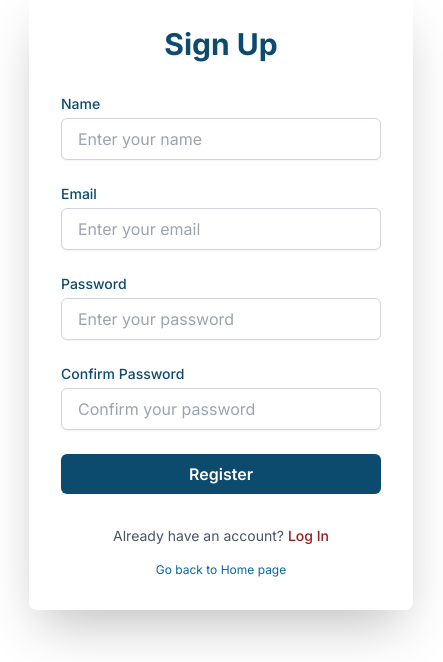
Scenario: Signup › handles signup errors
The width and height of the screenshot is (443, 662).
Type "John Doe" into the field labelled "Name" at coordinates (221, 139), box [61, 118, 381, 160]
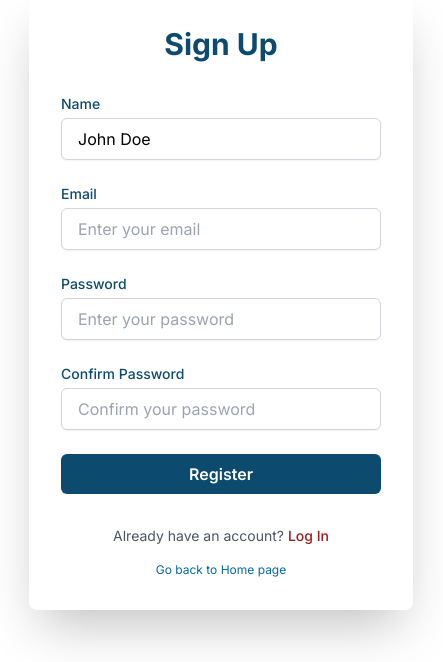
Type "john@example.com" into the field labelled "Email" at coordinates (221, 229), box [61, 208, 381, 250]
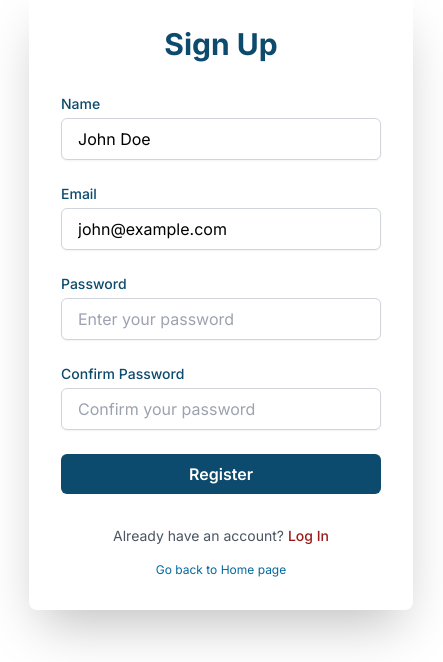
Type "password123" into the password field labelled "Password" at coordinates (221, 319), box [61, 298, 381, 340]
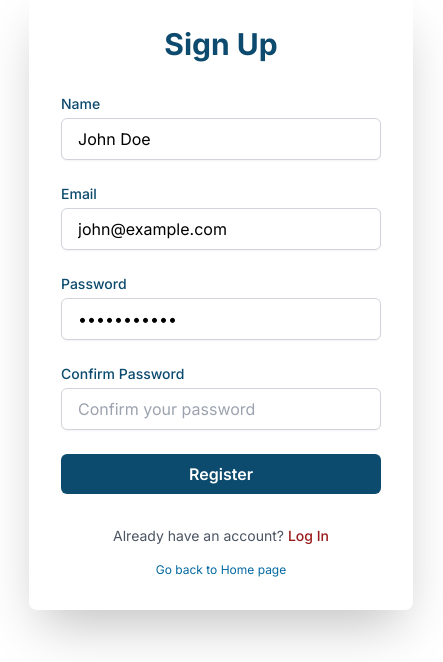
Type "password123" into the password field labelled "Confirm Password" at coordinates (221, 409), box [61, 388, 381, 430]
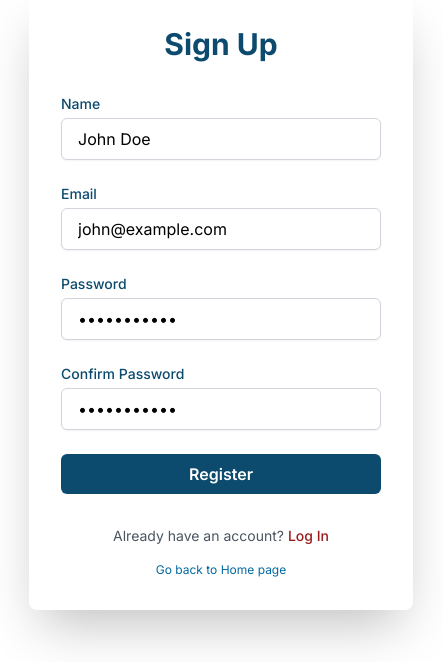
Click the button "Register" at coordinates (221, 474), box [61, 454, 381, 494]
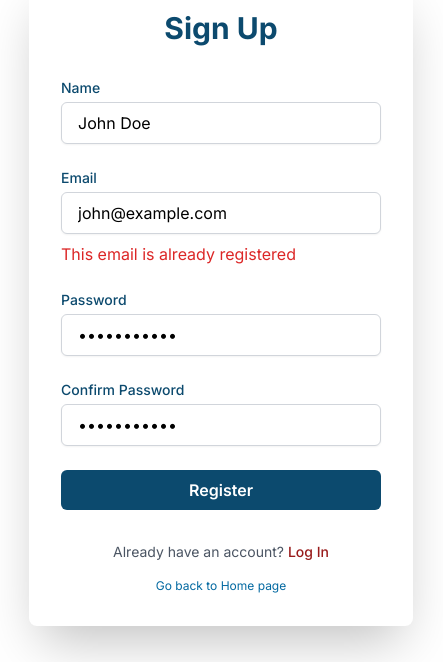
Expected: the text "This email is already registered" is shown, [61, 244, 296, 264]
